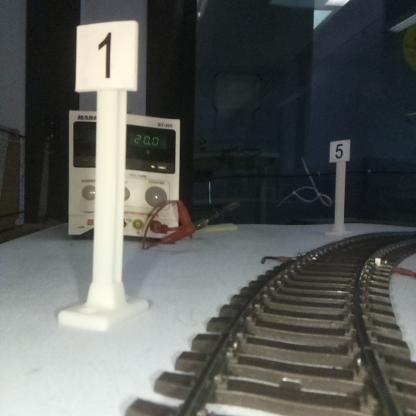white-info-1: (76, 21, 135, 327)
white-info-5: (330, 138, 350, 232)
